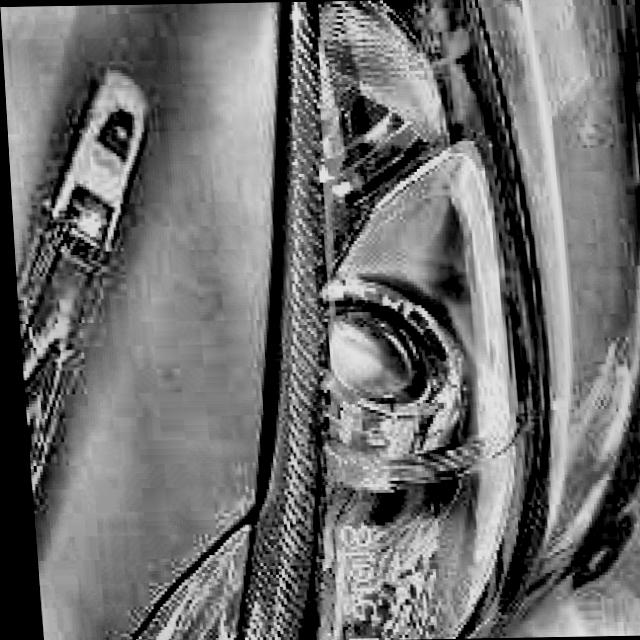head_lamp: (273, 15, 535, 633)
